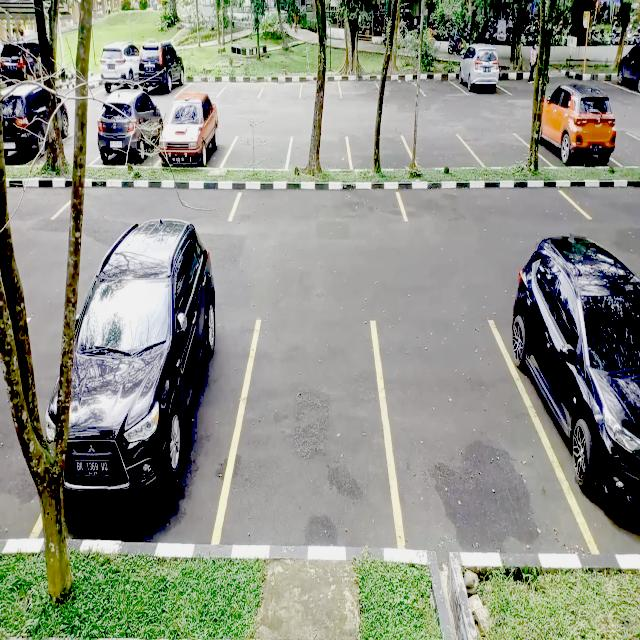empty: (230, 319, 389, 546), (380, 318, 530, 552), (404, 184, 584, 224), (237, 185, 406, 224), (572, 181, 640, 225), (286, 134, 351, 171), (410, 132, 473, 169), (226, 134, 290, 170), (350, 133, 410, 170), (472, 132, 532, 168), (419, 71, 458, 101), (378, 74, 419, 102), (262, 74, 303, 101), (340, 75, 382, 101), (300, 76, 340, 103), (613, 130, 640, 168), (223, 74, 264, 98)
occupied: (63, 249, 236, 543), (512, 270, 638, 553), (540, 102, 614, 170), (96, 95, 161, 167), (161, 106, 227, 170), (461, 54, 504, 96), (616, 51, 640, 95)
